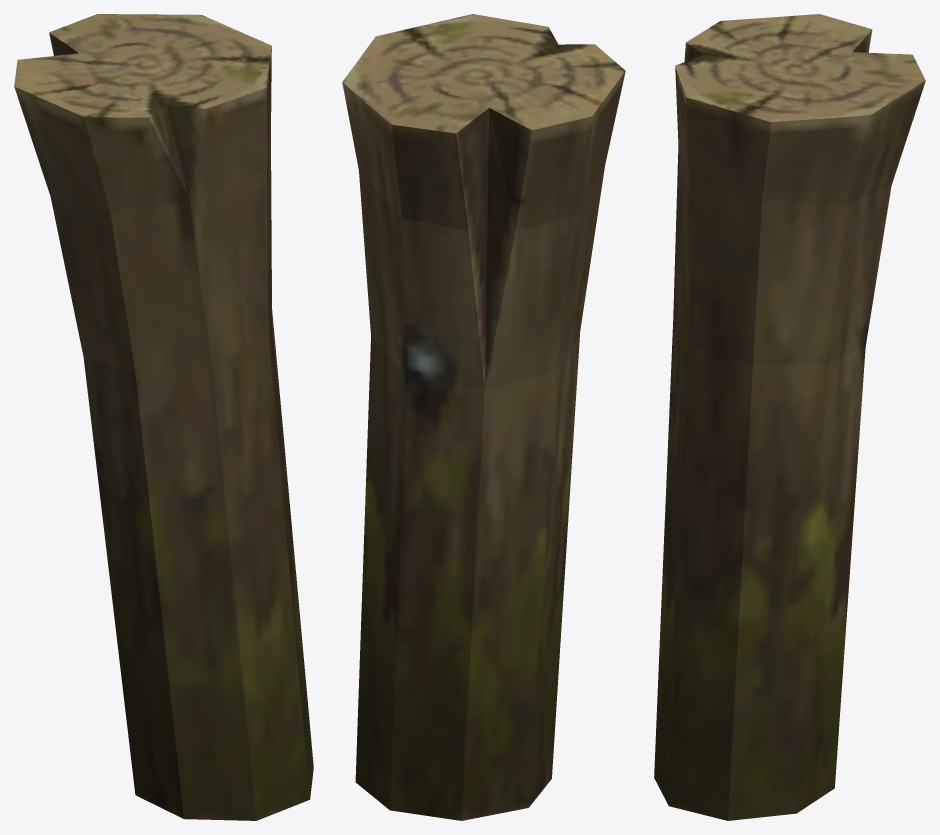
Rendered from dock_log_01.fbx.
The picture shows the model from 3 angles, left to right: view 1: azimuth 30°, elevation 25°; view 2: azimuth 150°, elevation 25°; view 3: azimuth 270°, elevation 25°; orthographic projection. The views are drawn at different scales.
Visible parts, largest first — view 1: obj0.555; view 2: obj0.555; view 3: obj0.555.
Boxes of the visible parts, box(x1,y1,x2,y2) form: obj0.555: box(14, 14, 313, 820); obj0.555: box(342, 14, 625, 820); obj0.555: box(654, 14, 925, 820).
Size of the model in its own units: 1.05 by 2.85 by 1.01.
